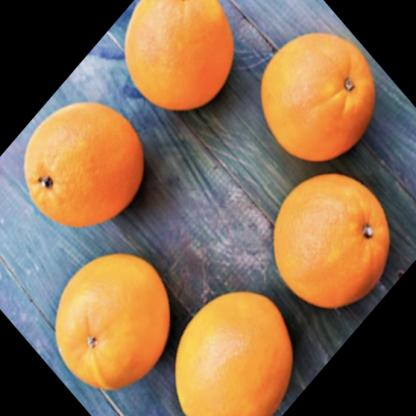fresh: (25, 2, 392, 416)
